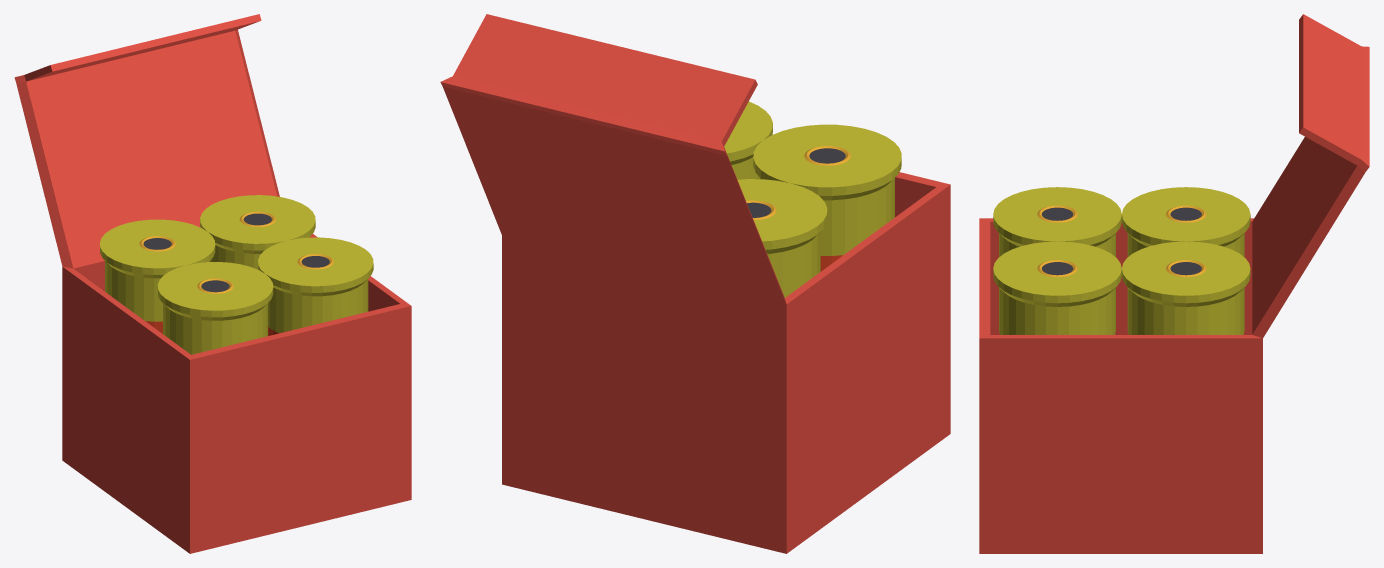
File: ShotgunAmmoPickup.fbx
3 views of the same model, side by side, from view 1: azimuth 30°, elevation 25°; view 2: azimuth 150°, elevation 25°; view 3: azimuth 270°, elevation 25° (orthographic). The views are drawn at different scales.
Parts seen in each view (by area): view 1: ShotgunAmmoPickup; view 2: ShotgunAmmoPickup; view 3: ShotgunAmmoPickup.
Part boxes in pixels (<box>): ShotgunAmmoPickup: <box>14,14,411,553</box>; ShotgunAmmoPickup: <box>440,14,950,553</box>; ShotgunAmmoPickup: <box>979,14,1369,553</box>.
Bounding box in the file's own units: 12.45 × 20.44 × 17.08.
